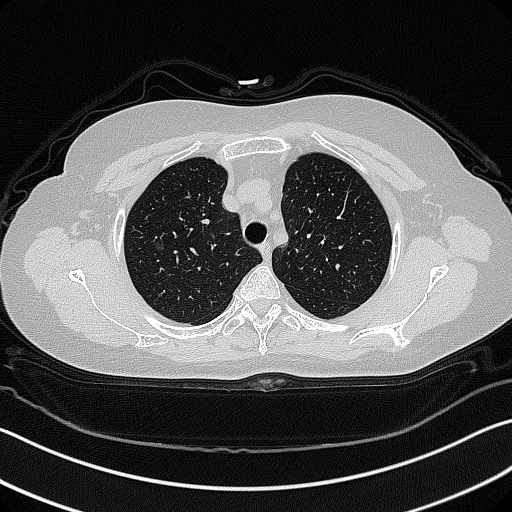nodule: (155, 243, 164, 251)
